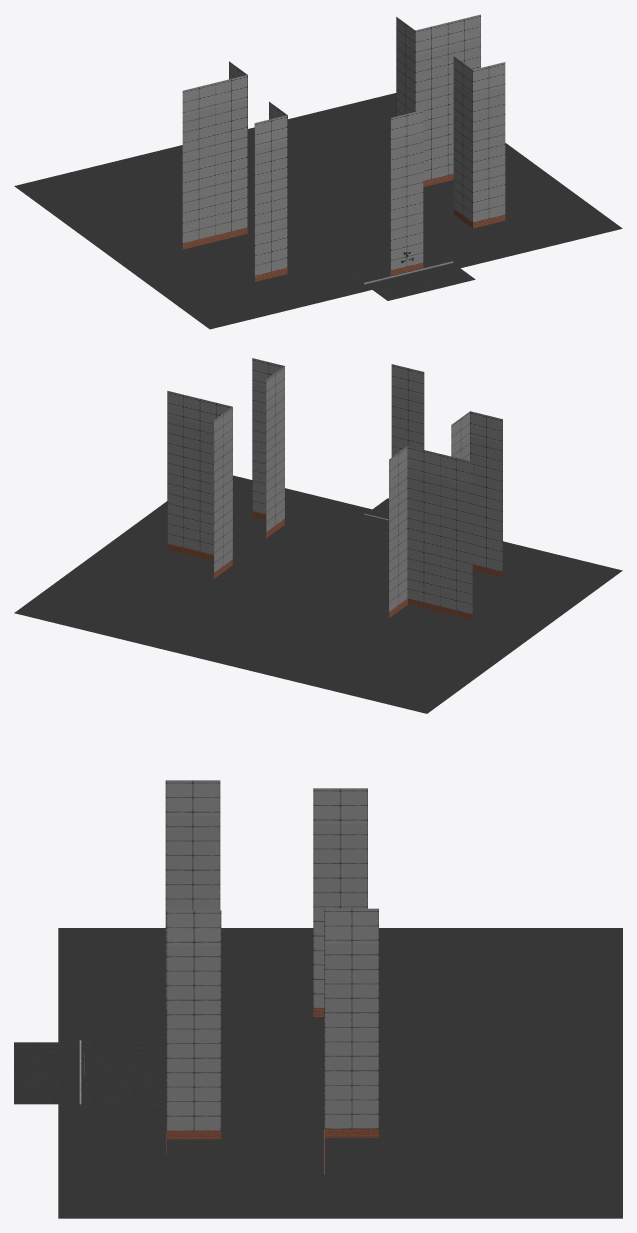
The model's file is Pause menu.gltf.
The picture shows the model from 3 angles, top to bottom: view 1: azimuth 30°, elevation 25°; view 2: azimuth 150°, elevation 25°; view 3: azimuth 270°, elevation 25°; orthographic projection. The views are drawn at different scales.
Visible parts, largest first — view 1: background (×2), building (×9), ground, road; view 2: background (×2), building (×11), ground; view 3: background (×2), building (×4), ground, road.
Part boxes in pixels (x1,y1,x2,y2): background (×2): (14,93,622,329); building (×9): (182,14,505,281); ground: (324,236,460,285); road: (372,263,475,300); background (×2): (14,475,622,713); building (×11): (167,358,502,620); ground: (324,512,388,551); background (×2): (58,928,622,1218); building (×4): (165,780,378,1139); ground: (80,1035,166,1109); road: (14,1042,79,1104).
Size of the model in its own units: 50.38 by 18.75 by 44.62.
4 materials, 4 textured.
